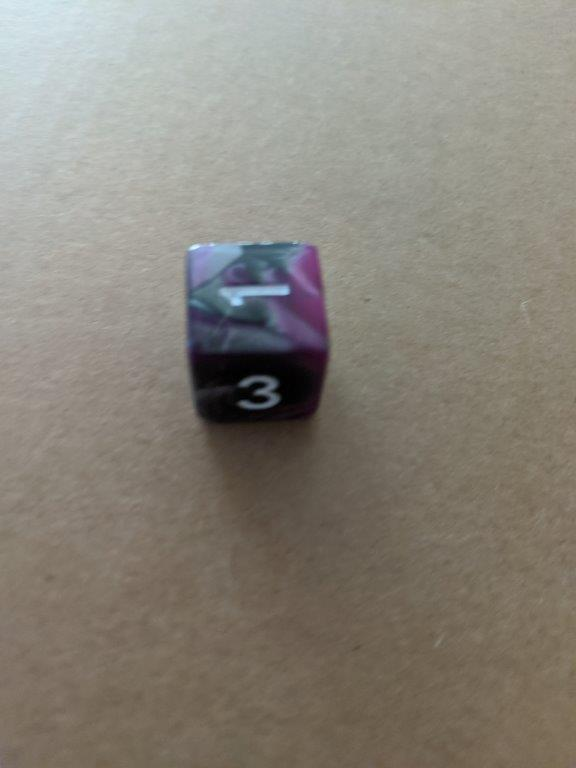d6-1: (182, 244, 334, 421)
